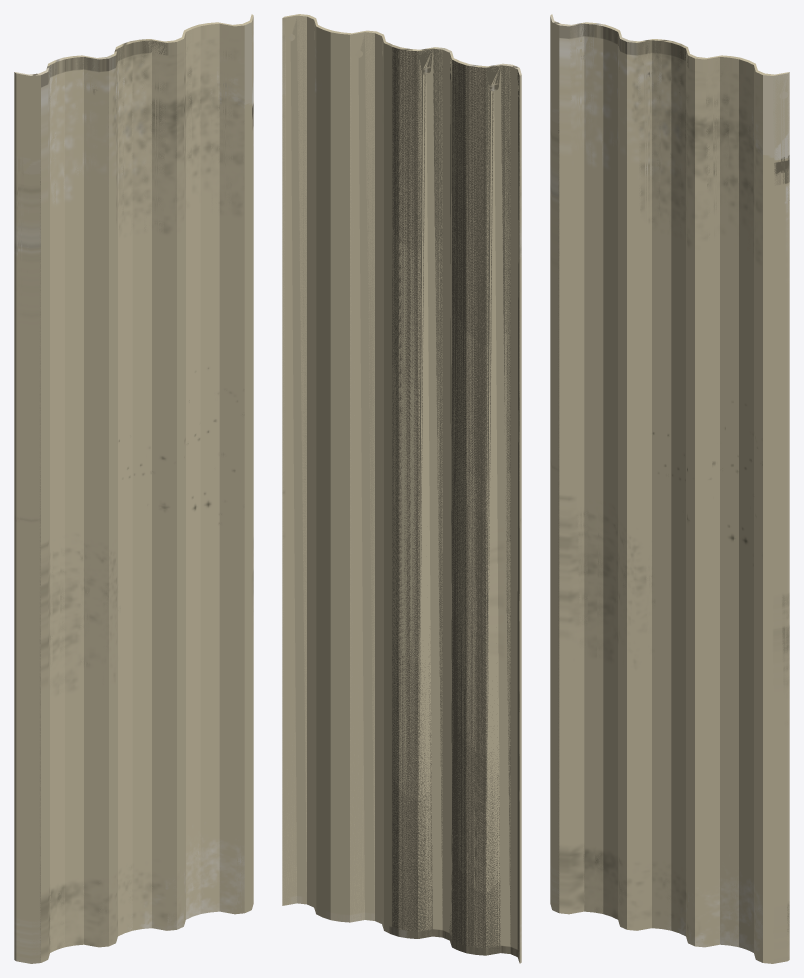
File: fbx_Cortina_Blocado.fbx
3 views of the same model, side by side, from view 1: azimuth 30°, elevation 25°; view 2: azimuth 150°, elevation 25°; view 3: azimuth 330°, elevation 25° (orthographic).
Visible parts, largest first — view 1: pCube945; view 2: pCube945; view 3: pCube945.
Boxes of the visible parts, x1,y1,x2,y2 form: pCube945: [14, 14, 253, 963]; pCube945: [282, 14, 521, 963]; pCube945: [550, 14, 789, 963].
Bounding box in the file's own units: 70 × 250 × 6.32.
Materials: 1 (1 with a texture image).
